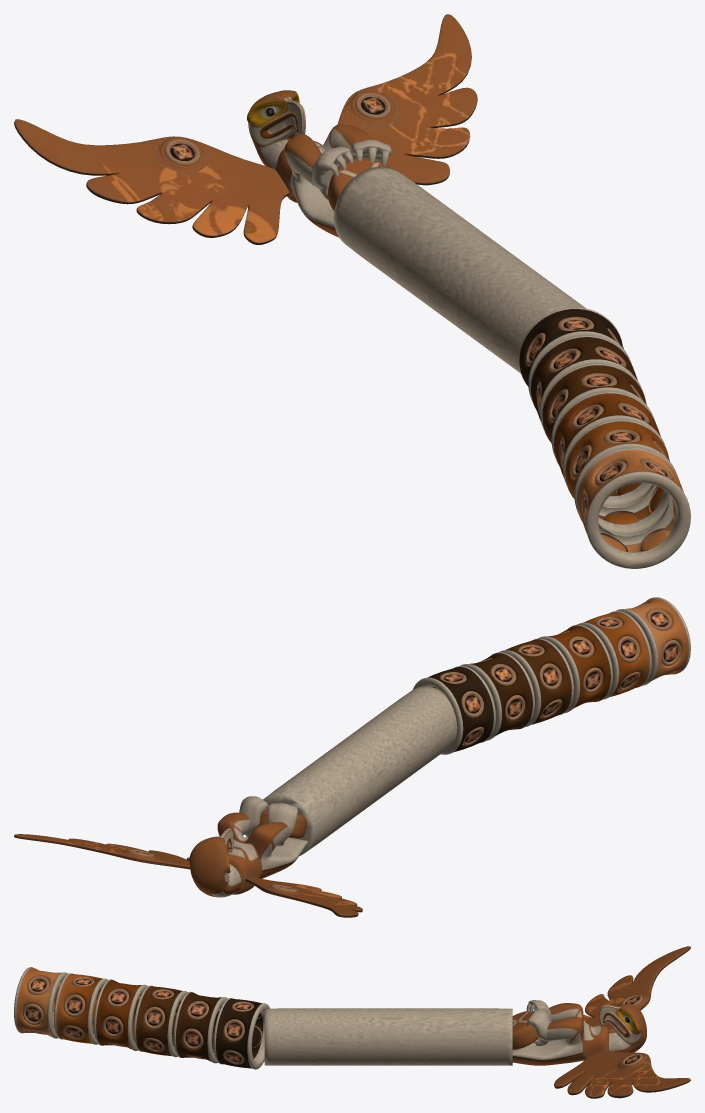
The model's file is totem_nordin_t0.glb.
3 views of the same model, one above another, from view 1: azimuth 30°, elevation 25°; view 2: azimuth 150°, elevation 25°; view 3: azimuth 270°, elevation 25° (orthographic). The views are drawn at different scales.
Visible parts, largest first — view 1: Eagle_Eagle_0, Bands, Pole_Pole_0; view 2: Bands, Pole_Pole_0, Eagle_Eagle_0; view 3: Bands, Pole_Pole_0, Eagle_Eagle_0.
Part boxes in pixels (bbox=[...]): Eagle_Eagle_0: bbox=[14, 14, 477, 244]; Bands: bbox=[518, 307, 690, 568]; Pole_Pole_0: bbox=[333, 166, 585, 373]; Bands: bbox=[413, 597, 690, 754]; Pole_Pole_0: bbox=[263, 686, 457, 856]; Eagle_Eagle_0: bbox=[14, 796, 362, 917]; Bands: bbox=[14, 967, 269, 1069]; Pole_Pole_0: bbox=[264, 1008, 512, 1065]; Eagle_Eagle_0: bbox=[512, 946, 690, 1098].
Size of the model in its own units: 0.6467 by 0.1387 by 1.37.
Materials: 2 (2 with a texture image).
